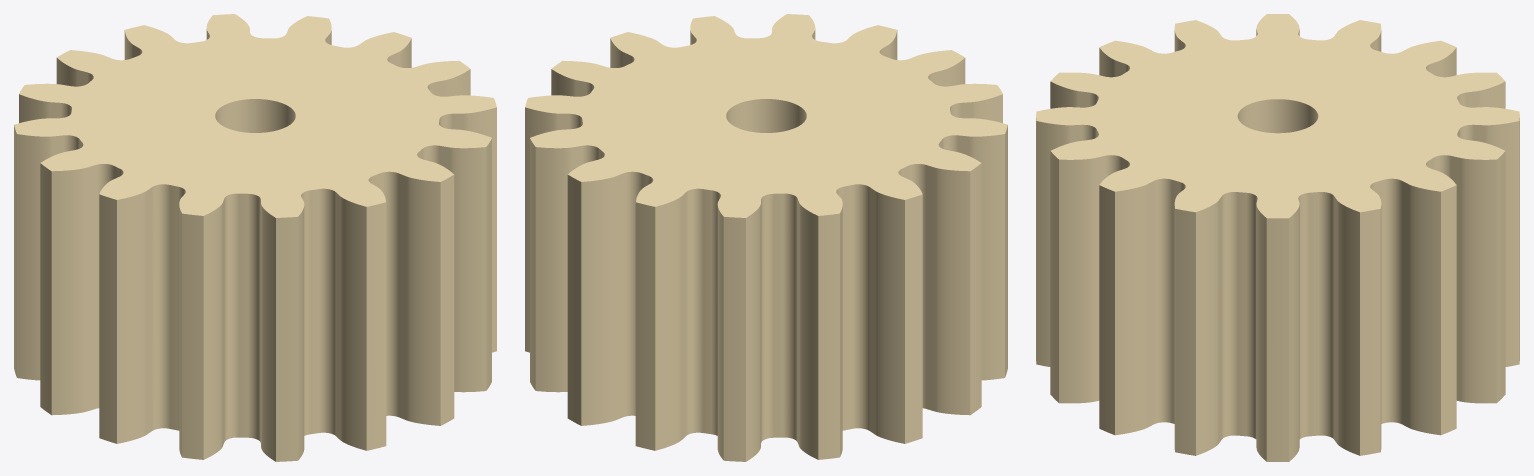
Rendered from small_gear.dae.
The picture shows the model from 3 angles, left to right: view 1: azimuth 30°, elevation 25°; view 2: azimuth 150°, elevation 25°; view 3: azimuth 270°, elevation 25°; orthographic projection.
Visible parts, largest first — view 1: small_gear; view 2: small_gear; view 3: small_gear.
Part boxes in pixels (box(x1,y1,x2,y2)): small_gear: box(14, 14, 496, 461); small_gear: box(525, 14, 1007, 461); small_gear: box(1036, 14, 1519, 461).
Size of the model in its own units: 0.009 by 0.009 by 0.005.
